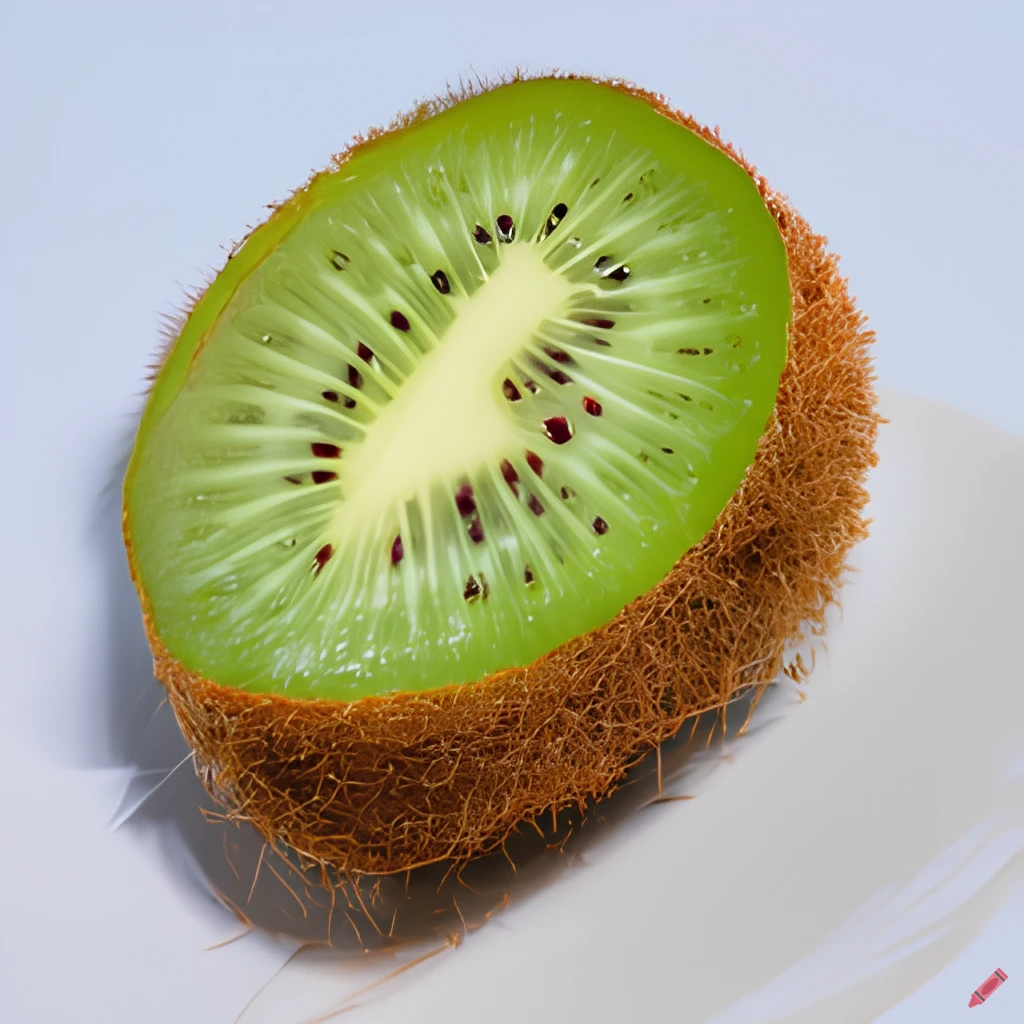Kiwi: (92, 67, 870, 883)
